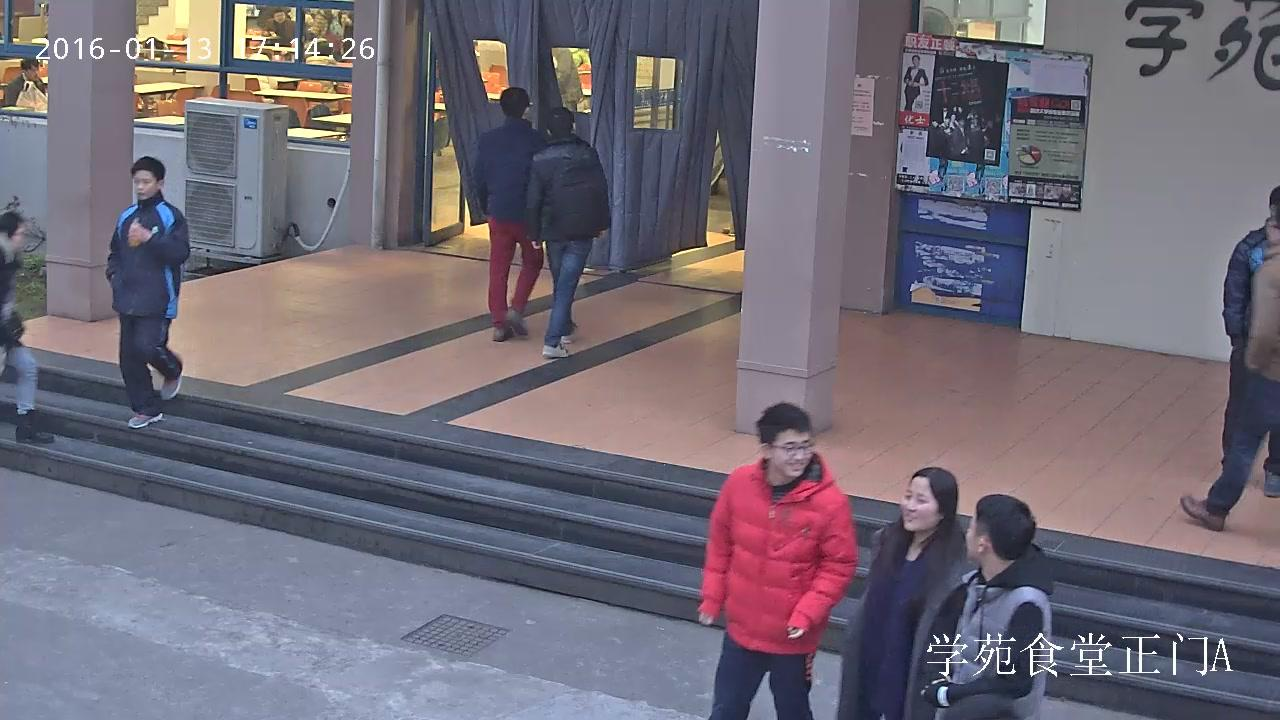person: (696, 400, 857, 720), (832, 465, 980, 720), (1178, 212, 1280, 532), (921, 492, 1056, 720), (105, 153, 191, 427), (523, 107, 609, 358), (1214, 184, 1280, 499), (471, 87, 551, 340), (0, 209, 55, 444), (3, 56, 49, 110), (548, 47, 585, 114), (301, 41, 337, 93), (902, 54, 931, 112), (244, 49, 276, 91), (264, 10, 294, 49)
